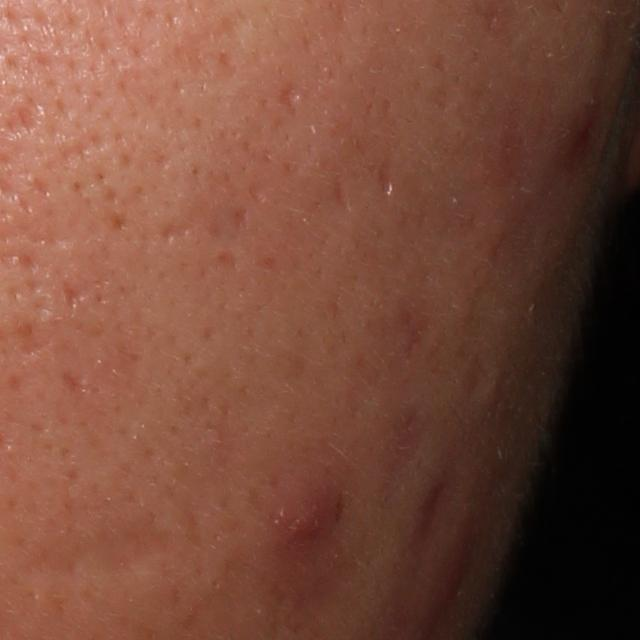atrophic_scar: (172, 10, 250, 80), (458, 348, 499, 414), (18, 322, 60, 358), (61, 275, 96, 314), (8, 104, 39, 140), (52, 367, 92, 393), (211, 248, 248, 275), (276, 78, 301, 117), (163, 219, 201, 243), (332, 172, 354, 213), (231, 204, 254, 238), (376, 164, 397, 196)
other: (6, 522, 195, 593)
papule: (268, 467, 356, 560), (432, 543, 476, 614)
